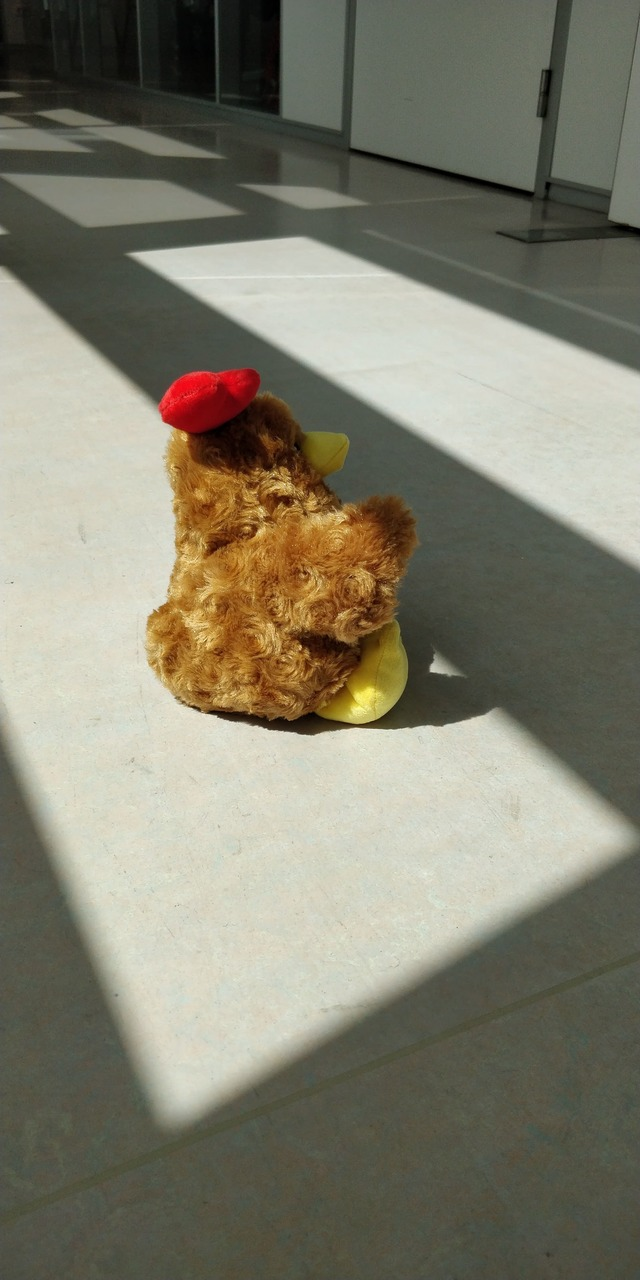fakeChicken: (145, 371, 422, 727)
